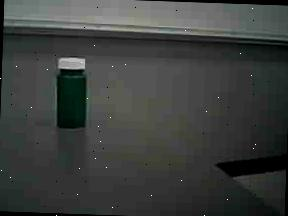Bottle C: (42, 49, 102, 142)
